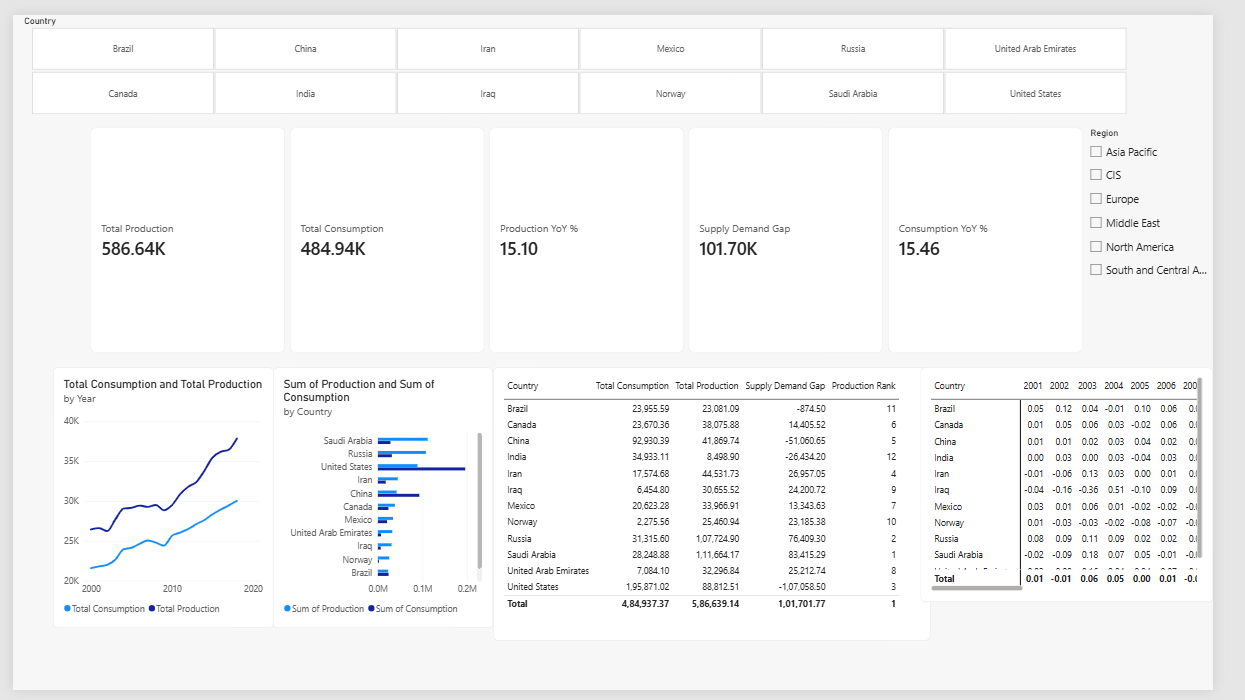

The dashboard page shown, as its layout file describes it:
{"tool":"powerbi","page":{"name":"Page 2","canvas":[1920,1080],"ordinal":1},"visuals":[{"type":"slicer","fields":{"Values":["Dim_Country.Country"]},"box":[10,0,1790,160],"z":0},{"type":"cardVisual","fields":{"Data":["Fact_Production.Total Production","Fact_Consumption.Total Consumption","Fact_Production.Production YoY %","Fact_Production.Supply Demand Gap","Fact_Consumption.Consumption YoY %"]},"box":[123.3,180,1591.7,360],"z":4000},{"type":"lineChart","fields":{"Category":["Dim_Year.Year"],"Y":["Fact_Consumption.Total Consumption","Fact_Production.Total Production"]},"box":[63.3,563.3,353.3,416.7],"z":5000},{"type":"clusteredBarChart","fields":{"Category":["Dim_Country.Country"],"Y":["Sum(Fact_Production.Production)","Sum(Fact_Consumption.Consumption)"]},"box":[416.7,563.3,351.7,416.7],"z":6000},{"type":"tableEx","fields":{"Values":["Dim_Country.Country","Fact_Consumption.Total Consumption","Fact_Production.Total Production","Fact_Production.Supply Demand Gap","Fact_Production.Production Rank"]},"box":[768.3,563.3,700,436.7],"z":6001},{"type":"pivotTable","fields":{"Columns":["Dim_Year.Year"],"Rows":["Dim_Country.Country"],"Values":["Fact_Production.Production YoY %"]},"box":[1451.7,563.3,468.3,375],"z":6002},{"type":"slicer","fields":{"Values":["Dim_Country.Region"]},"box":[1715,180,205,360],"z":6003}]}

Visuals, with their boxes in screenshot pixels (x1, y1, x2, y2), scaled from the page's 1920x1080 canvas onto the 1245x700 screenshot:
slicer - Dim_Country.Country: [x1=6, y1=0, x2=1167, y2=104]
cardVisual - Fact_Production.Total Production x Fact_Consumption.Total Consumption: [x1=80, y1=117, x2=1112, y2=350]
lineChart - Dim_Year.Year x Fact_Consumption.Total Consumption: [x1=41, y1=365, x2=270, y2=635]
clusteredBarChart - Dim_Country.Country x Sum(Fact_Production.Production): [x1=270, y1=365, x2=498, y2=635]
tableEx - Dim_Country.Country x Fact_Consumption.Total Consumption: [x1=498, y1=365, x2=952, y2=648]
pivotTable - Dim_Year.Year x Dim_Country.Country: [x1=941, y1=365, x2=1244, y2=608]
slicer - Dim_Country.Region: [x1=1112, y1=117, x2=1244, y2=350]
